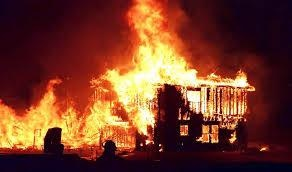fire: (10, 0, 275, 152)
